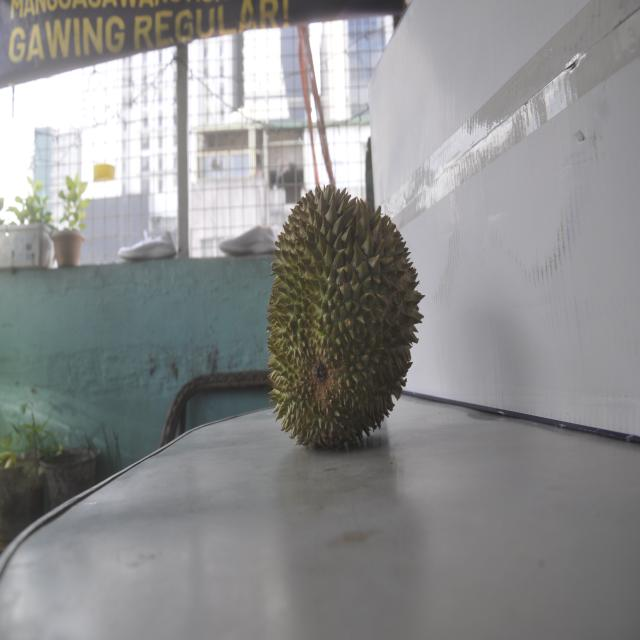mature: (266, 182, 416, 450)
